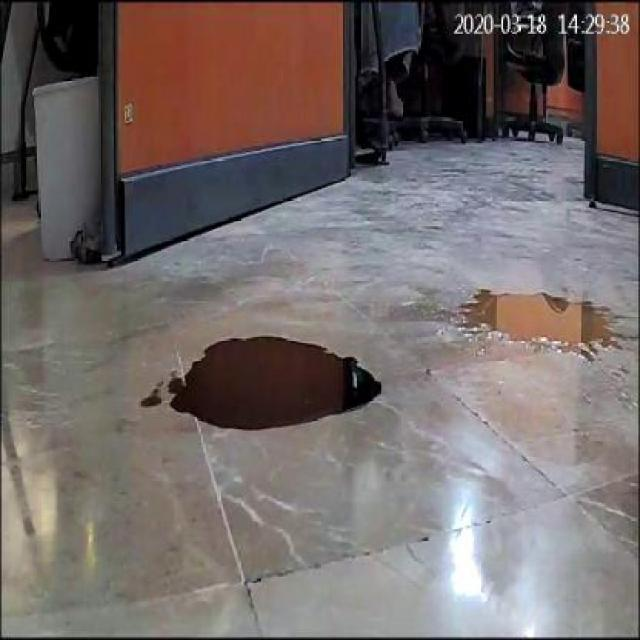spill: (170, 336, 382, 432), (453, 288, 612, 357)
